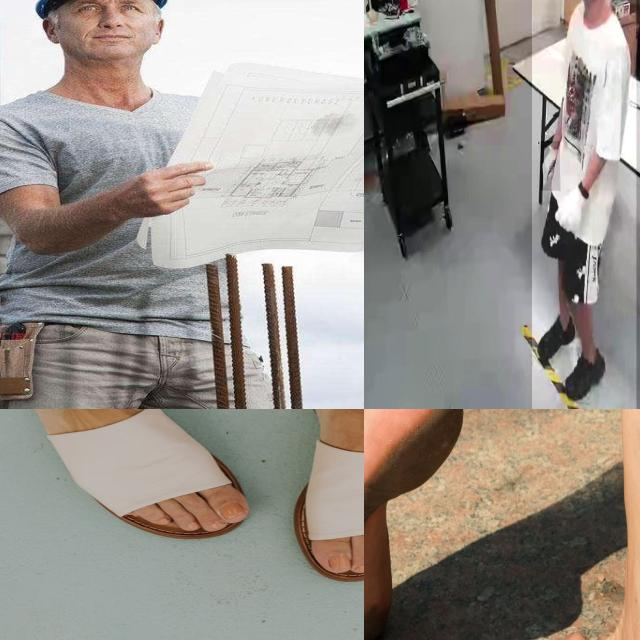Barefoots: (364, 409, 464, 640), (560, 409, 640, 640)
No_Ear-Protection: (31, 12, 71, 49)
No_Glasses: (70, 0, 149, 19)
Sandals: (0, 409, 254, 541), (295, 409, 364, 584)
hand_glove: (559, 176, 593, 244), (540, 141, 560, 191)
person: (532, 0, 637, 409)
shoes: (563, 346, 607, 406), (537, 307, 577, 365)
